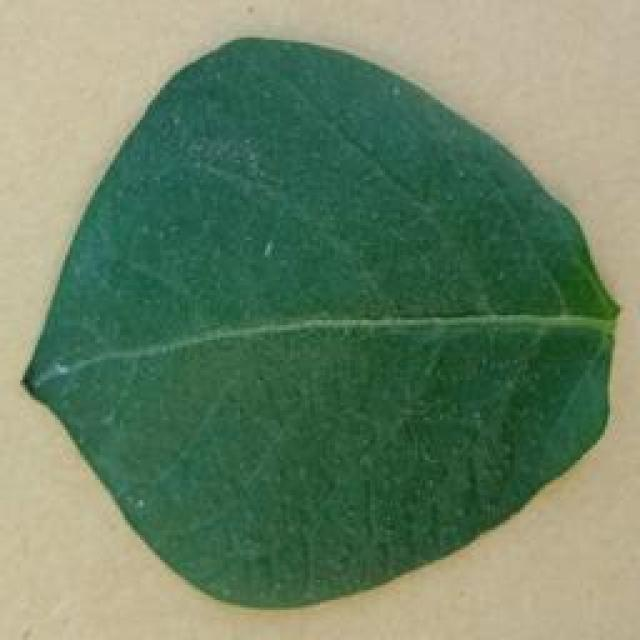Potato_Healthy: (20, 38, 618, 611)
